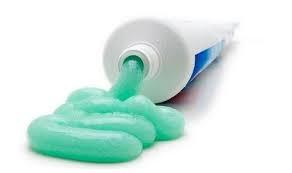toothpaste: (97, 3, 249, 103)
